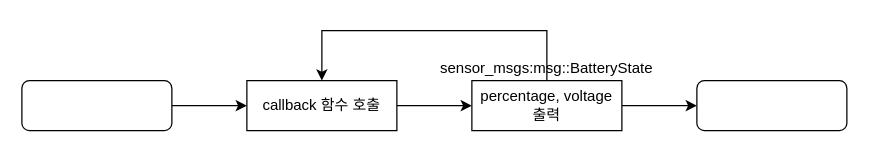
The diagram is 869 pixels wide and 153 high, and some of its shapes have lost their labels. Here are the shapes that lost their labels. From the top down, the centre of each, then its label:
At [96,105]: "Node init".
At [771,105]: "Node 종료".
